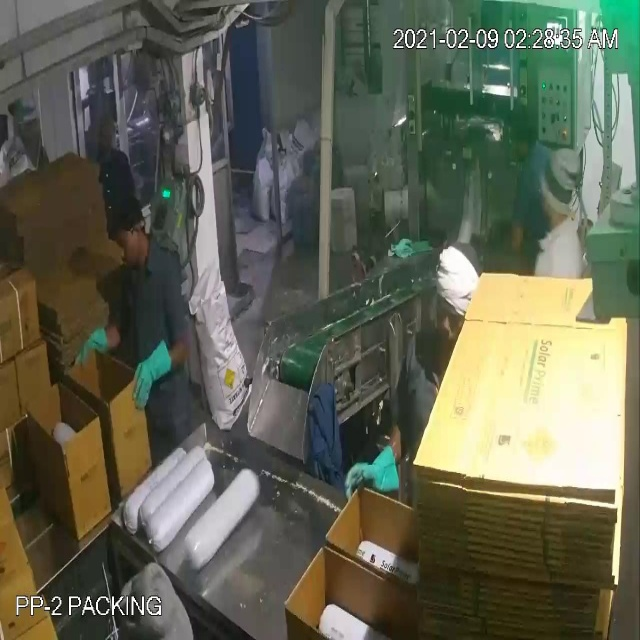Guantes: (124, 338, 180, 414), (341, 444, 400, 513), (70, 324, 114, 378)
